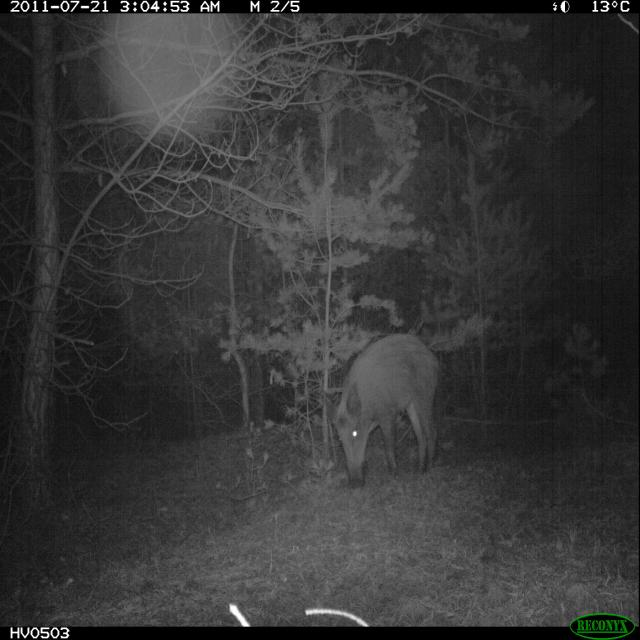boar: (312, 315, 479, 486)
